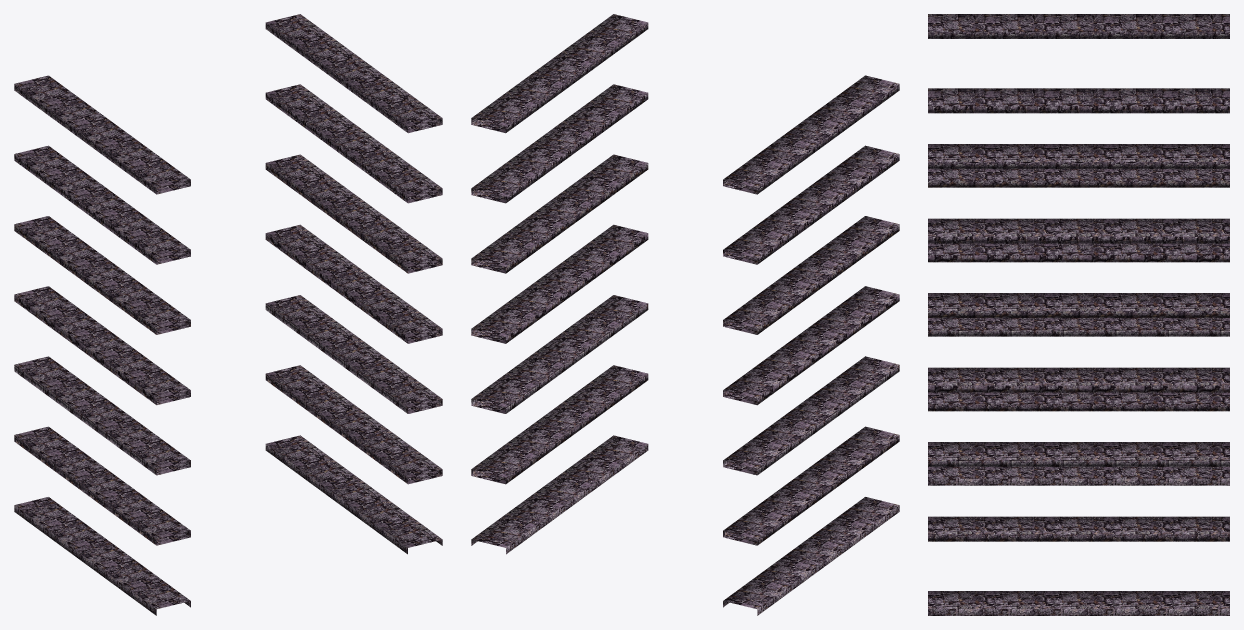
Rendered from dungeonFloors.glb.
3 views of the same model, side by side, from view 1: azimuth 30°, elevation 25°; view 2: azimuth 150°, elevation 25°; view 3: azimuth 270°, elevation 25° (orthographic). The views are drawn at different scales.
Parts seen in each view (by area): view 1: jailsFloors; view 2: jailsFloors; view 3: jailsFloors.
Boxes of the visible parts, bbox=[...] form: jailsFloors: bbox=[14, 14, 442, 615]; jailsFloors: bbox=[471, 14, 899, 615]; jailsFloors: bbox=[928, 14, 1229, 615].
Size of the model in its own units: 71.97 by 103 by 62.
Materials: 1 (1 with a texture image).
